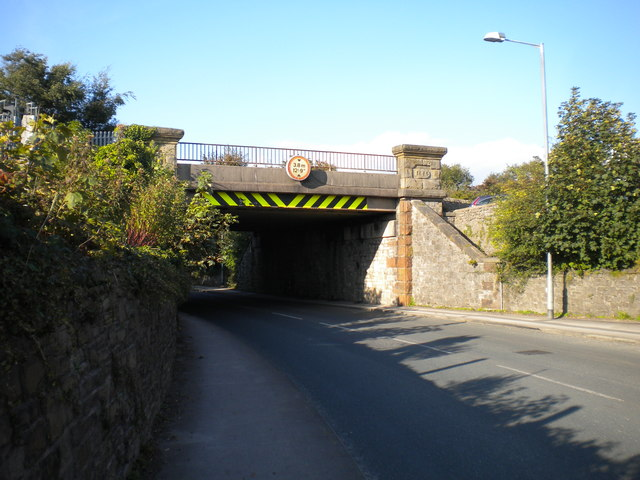bridge: (115, 124, 453, 223)
